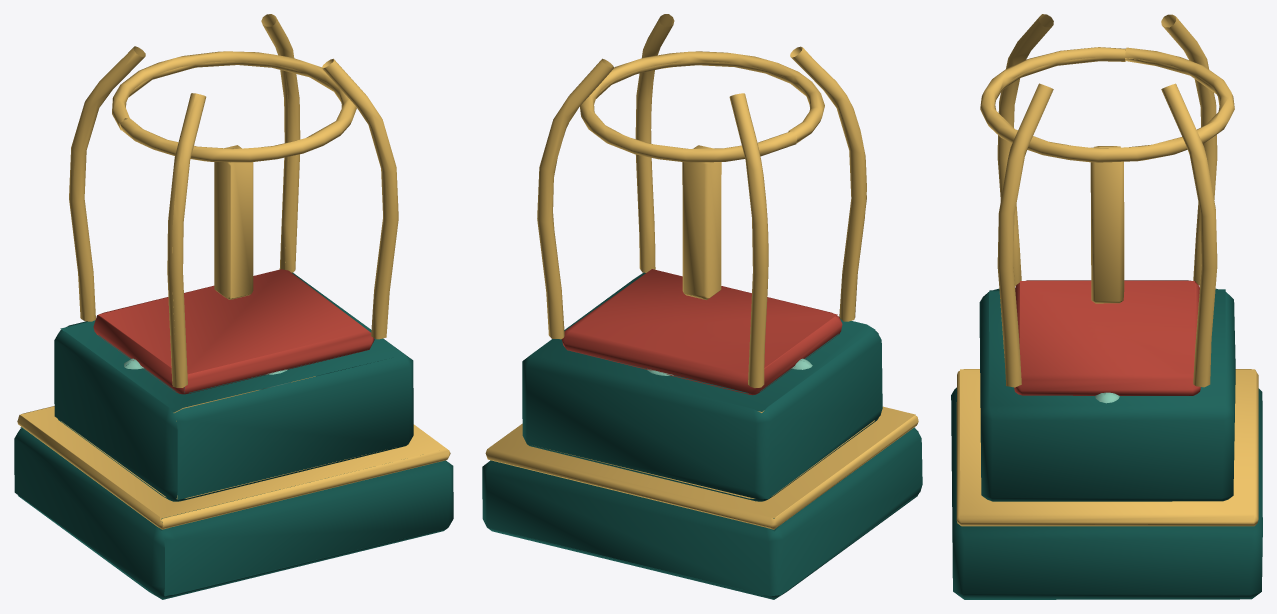
3 renders of one model, left to right at view 1: azimuth 30°, elevation 25°; view 2: azimuth 150°, elevation 25°; view 3: azimuth 270°, elevation 25°, orthographic. The views are drawn at different scales.
Visible parts, largest first — view 1: Jade footing, Brass welt, Velvet cushion, Golden fry; view 2: Jade footing, Brass welt, Velvet cushion, Golden fry; view 3: Jade footing, Brass welt, Velvet cushion, Golden fry.
Part boxes in pixels (x1,y1,x2,y2): Jade footing: (14, 272, 453, 599); Brass welt: (17, 14, 450, 529); Velvet cushion: (93, 269, 374, 394); Golden fry: (214, 145, 253, 299); Jade footing: (482, 272, 922, 599); Brass welt: (485, 14, 918, 529); Velvet cushion: (561, 269, 842, 395); Golden fry: (682, 145, 721, 299); Jade footing: (951, 288, 1262, 599); Brass welt: (956, 14, 1258, 526); Velvet cushion: (1014, 280, 1200, 395); Golden fry: (1090, 146, 1124, 303).
Bounding box in the file's own units: 0.5747 × 0.8388 × 0.4944.
